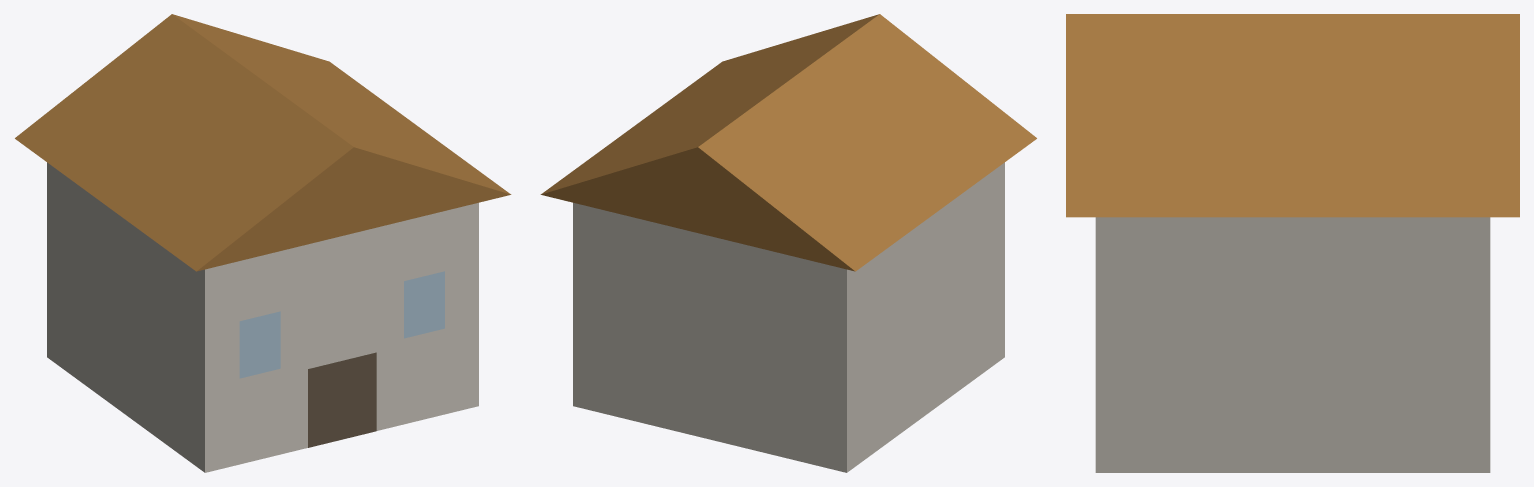
File: casa_prueba.glb
3 renders of one model, left to right at view 1: azimuth 30°, elevation 25°; view 2: azimuth 150°, elevation 25°; view 3: azimuth 270°, elevation 25°, orthographic. The views are drawn at different scales.
Parts seen in each view (by area): view 1: Casa; view 2: Casa; view 3: Casa.
Boxes of the visible parts, box(x1,y1,x2,y2) form: Casa: box(15, 14, 511, 472); Casa: box(540, 14, 1036, 472); Casa: box(1066, 14, 1519, 472).
Bounding box in the file's own units: 2.3 × 2.1 × 2.3.
